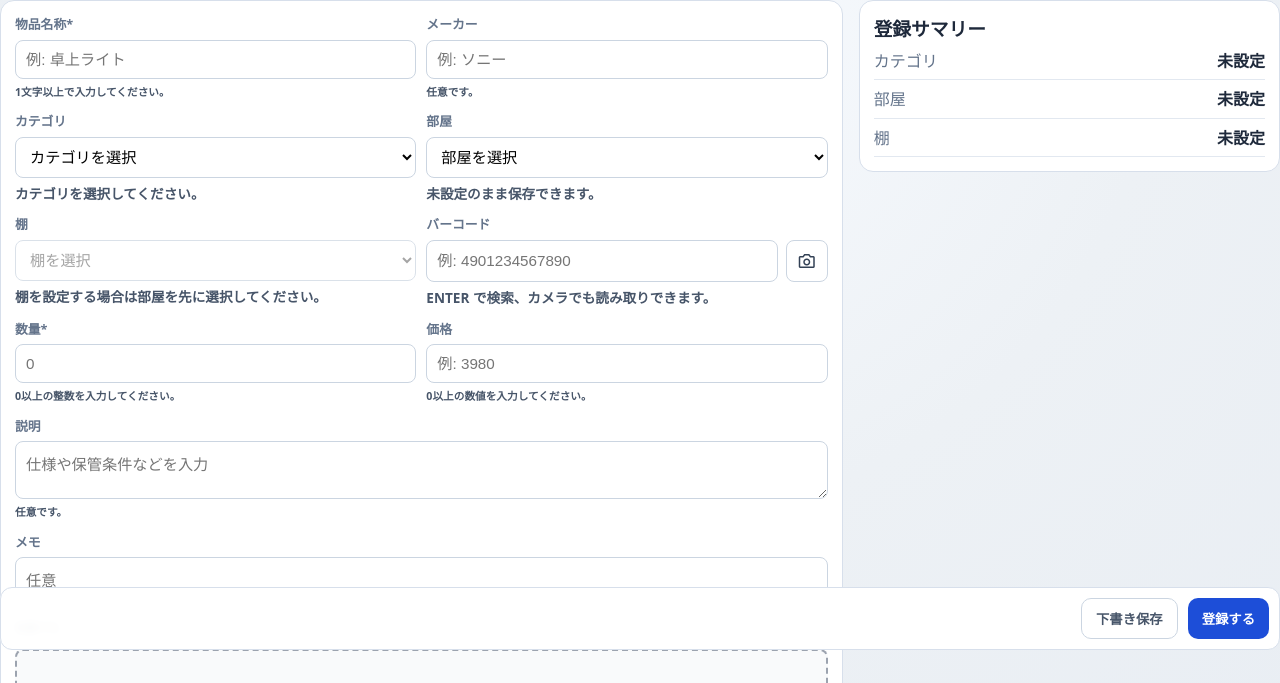
Test case: ItemForm barcode › 再検索時に前回の検索結果エラーをクリアする
This screenshot has width=1280, height=683.
Type "4901234567890" into the field named "barcode". click: {"x": 602, "y": 261}
box: [426,240,778,282]
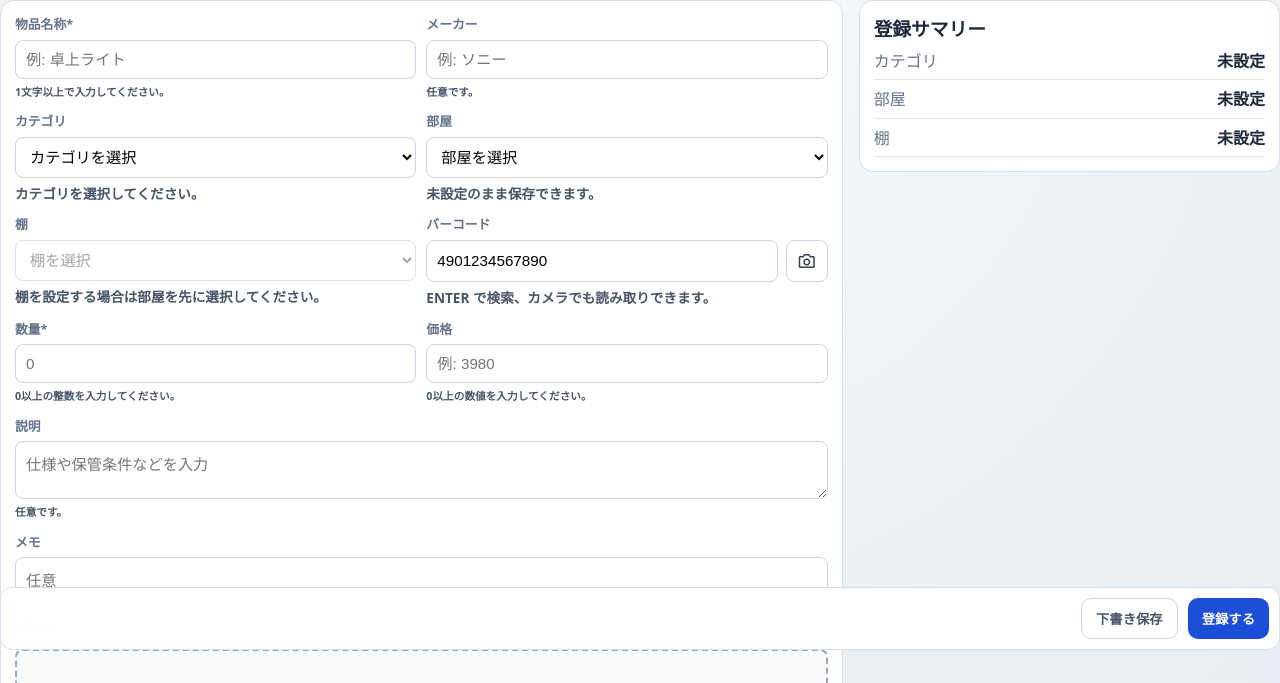
Press Enter in the field named "barcode", box [426,240,778,282]
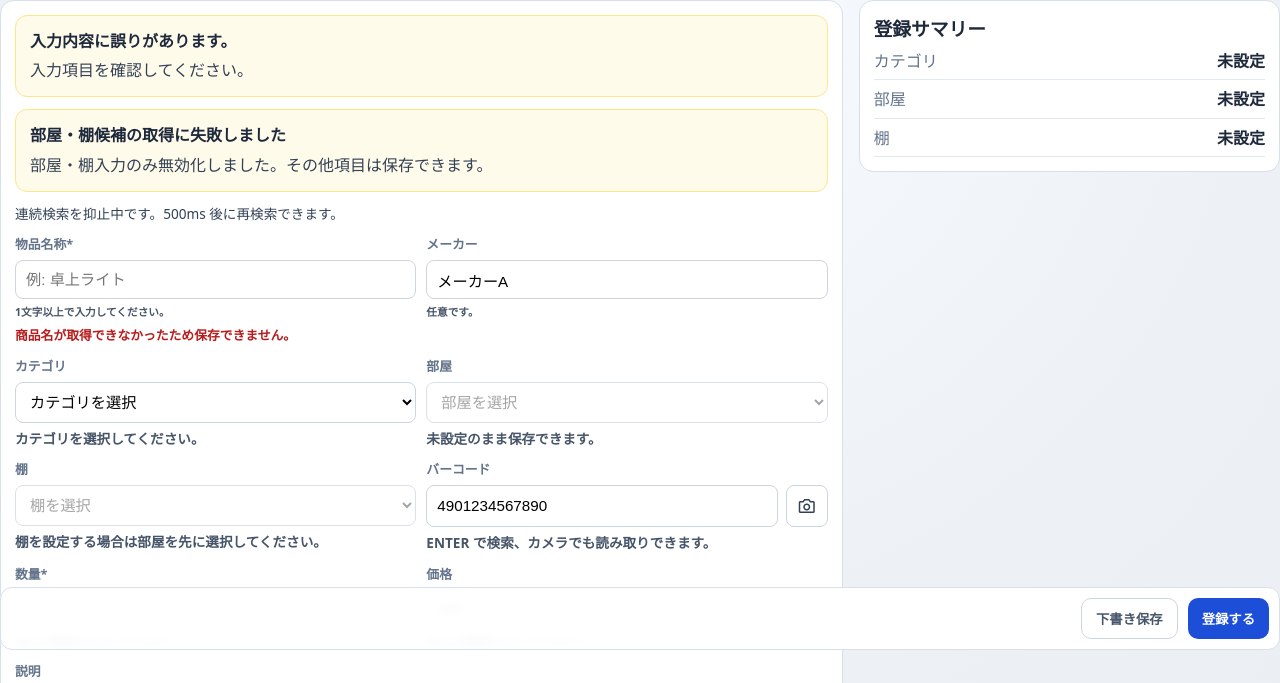
Now the text "商品名が取得できなかったため保存できません。" is shown, box [15,326,296,344]
# 2回目の検索開始で前回のフィールドエラーがクリアされること（クールダウン中でも）
Press Enter in the field named "barcode", box [426,485,778,527]
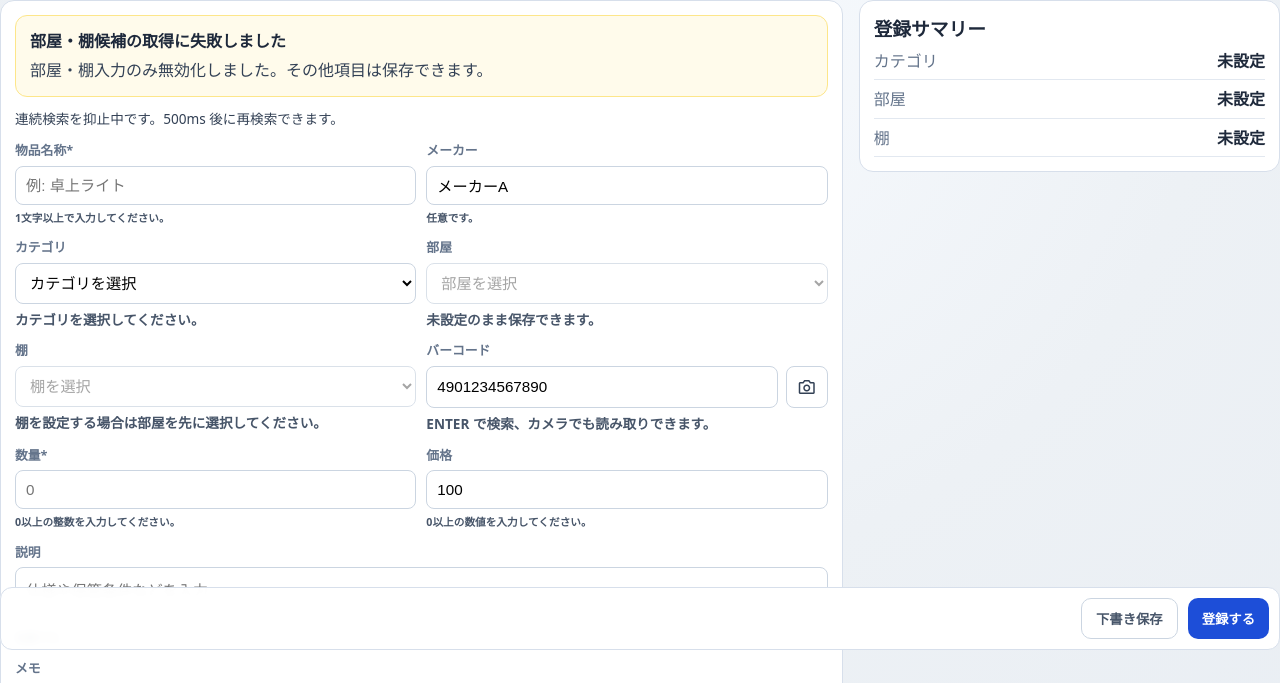
Now the text "商品名が取得できなかったため保存できません。" is gone
